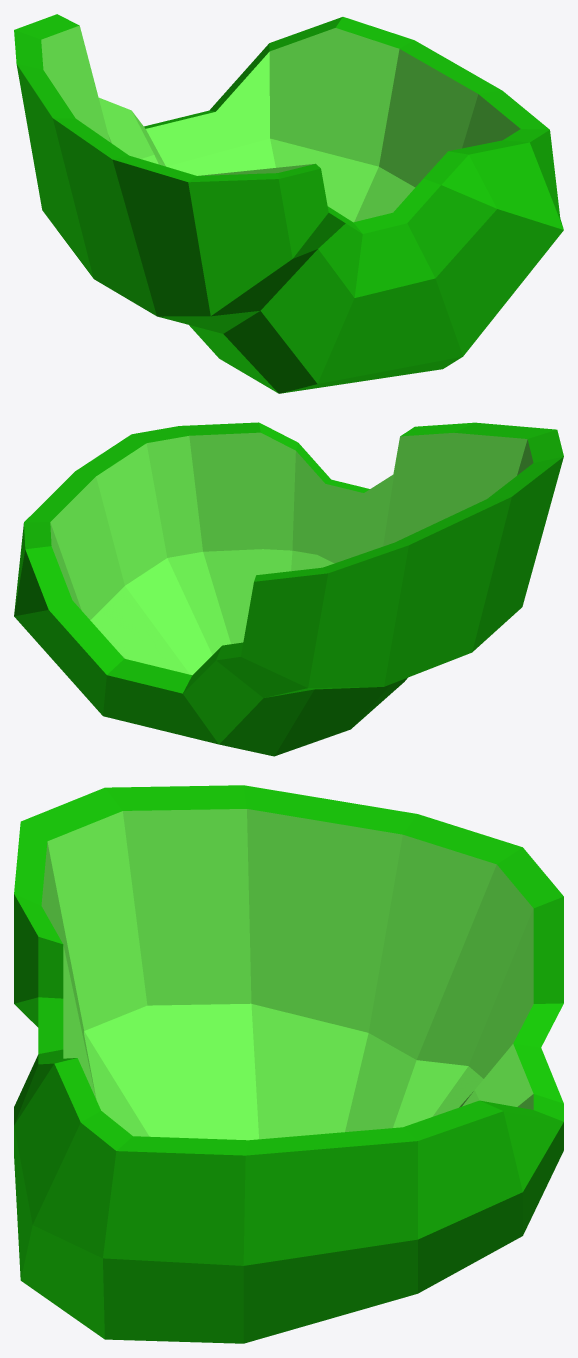
The model's file is pepperfruit06.obj.
3 renders of one model, top to bottom at view 1: azimuth 30°, elevation 25°; view 2: azimuth 150°, elevation 25°; view 3: azimuth 270°, elevation 25°, orthographic. The views are drawn at different scales.
Visible parts, largest first — view 1: Cylinder.001; view 2: Cylinder.001; view 3: Cylinder.001.
Part boxes in pixels (x1=…): Cylinder.001: x1=14, y1=14, x2=563, y2=393; Cylinder.001: x1=14, y1=422, x2=563, y2=756; Cylinder.001: x1=14, y1=785, x2=563, y2=1343.
Bounding box in the file's own units: 0.0721 × 0.0444 × 0.0617.
Materials: 1 (1 with a texture image).
